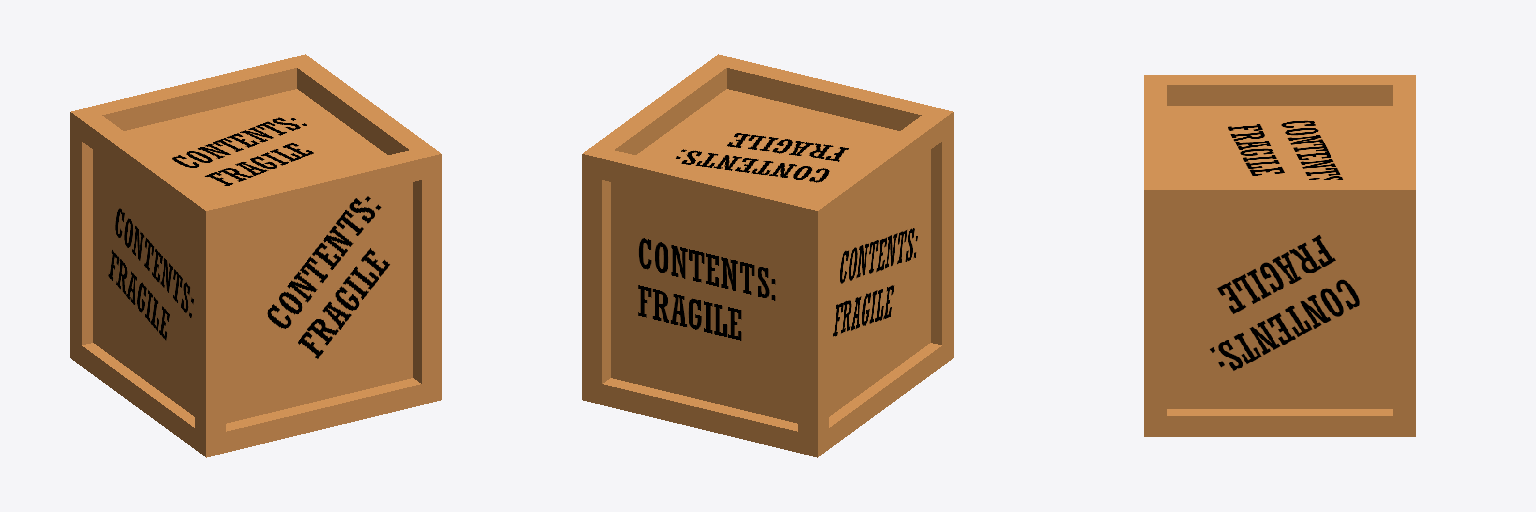
3 views of the same model, side by side, from view 1: azimuth 30°, elevation 25°; view 2: azimuth 150°, elevation 25°; view 3: azimuth 270°, elevation 25° (orthographic).
Visible parts, largest first — view 1: Box001; view 2: Box001; view 3: Box001.
Boxes of the visible parts, <box> form: Box001: <box>70,54,441,457</box>; Box001: <box>582,54,953,457</box>; Box001: <box>1144,75,1415,436</box>.
Size of the model in its own units: 20 by 20 by 20.
Materials: 1 (1 with a texture image).